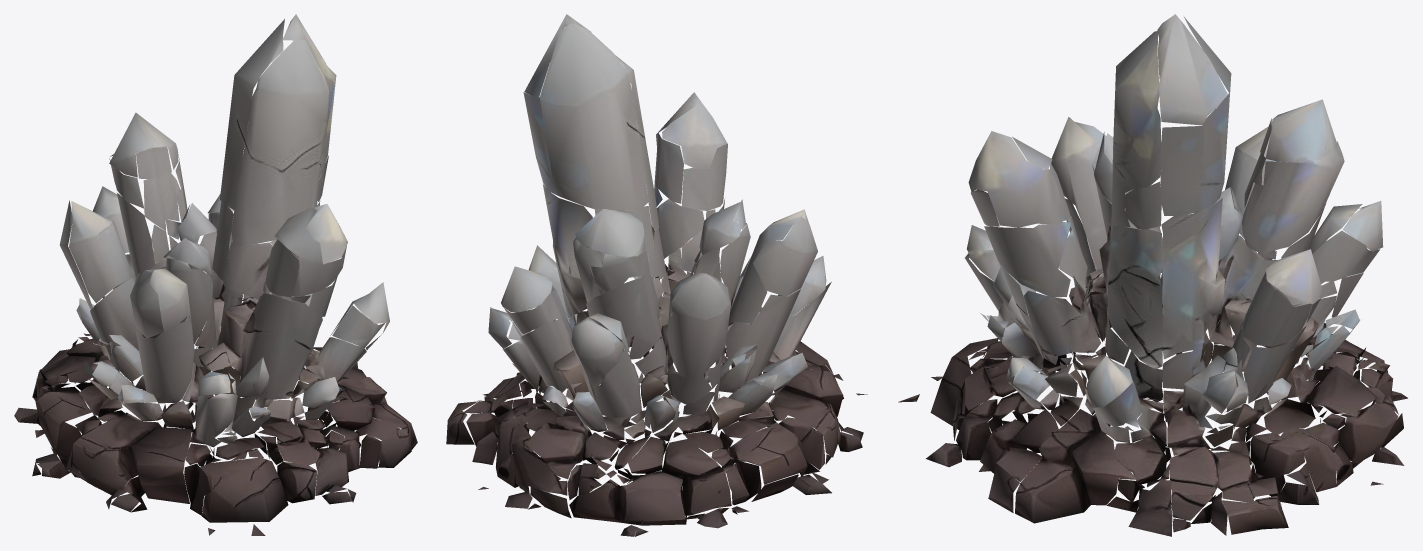
Rendered from cristal-veio-2.glb.
3 renders of one model, left to right at view 1: azimuth 30°, elevation 25°; view 2: azimuth 150°, elevation 25°; view 3: azimuth 270°, elevation 25°, orthographic. The views are drawn at different scales.
Visible parts, largest first — view 1: tripo_node_4bea41ae-ce11-4086-8ed7-baaf84ac7763; view 2: tripo_node_4bea41ae-ce11-4086-8ed7-baaf84ac7763; view 3: tripo_node_4bea41ae-ce11-4086-8ed7-baaf84ac7763.
Part boxes in pixels (<box>): tripo_node_4bea41ae-ce11-4086-8ed7-baaf84ac7763: <box>14,14,417,535</box>; tripo_node_4bea41ae-ce11-4086-8ed7-baaf84ac7763: <box>446,14,867,536</box>; tripo_node_4bea41ae-ce11-4086-8ed7-baaf84ac7763: <box>898,14,1407,536</box>.
Bounding box in the file's own units: 0.9085 × 1.01 × 0.9797.
Materials: 1 (1 with a texture image).
